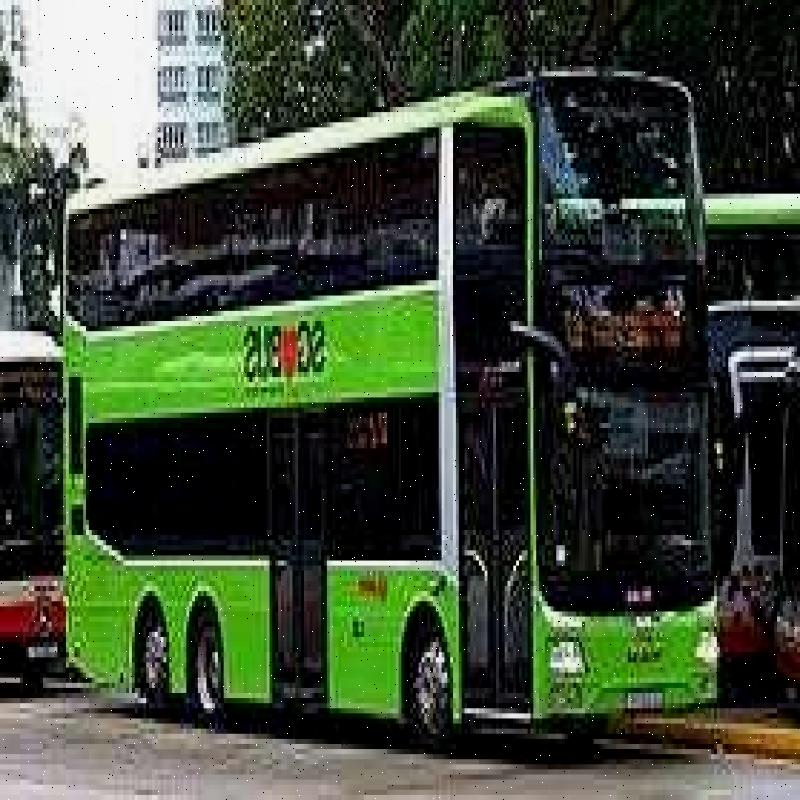bus: (40, 60, 728, 727)
